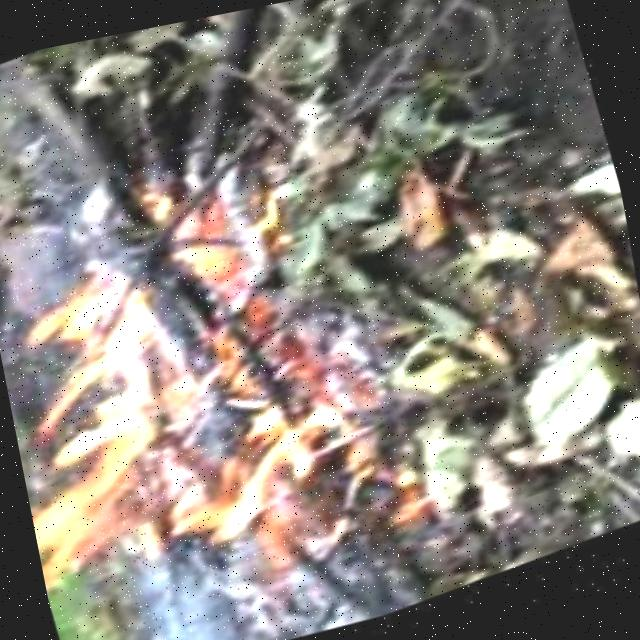fire: (0, 138, 436, 640)
